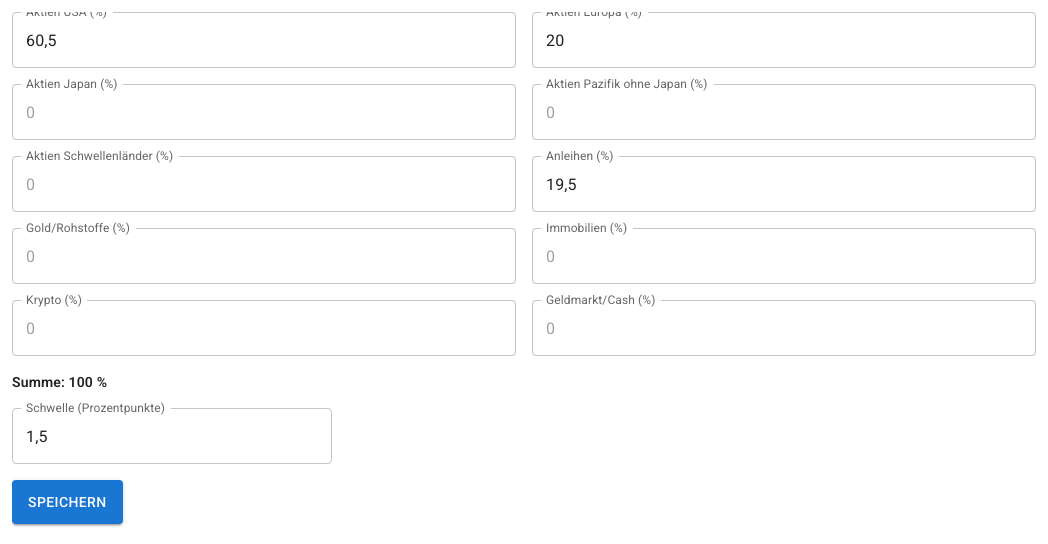
Test case: TargetForm › prefills the stored targets and threshold and shows the live sum
This screenshot has width=1048, height=544.
Expected: the field labelled "Aktien USA (%)" holds "60,5", 12,12 -> 516,68
Expected: the field labelled "Geldmarkt/Cash (%)" is empty, 532,300 -> 1036,356
Replace the text in the field labelled "Anleihen (%)" with "19" at point(784, 184), box 532,156 -> 1036,212
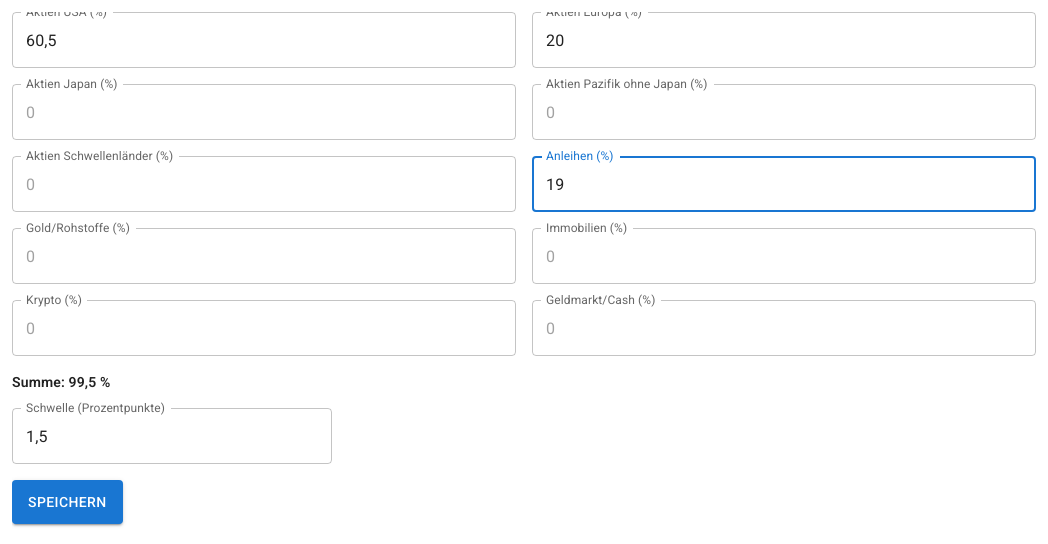
Now the text "Summe: 99,5 %" is shown, box 12,374 -> 111,390
